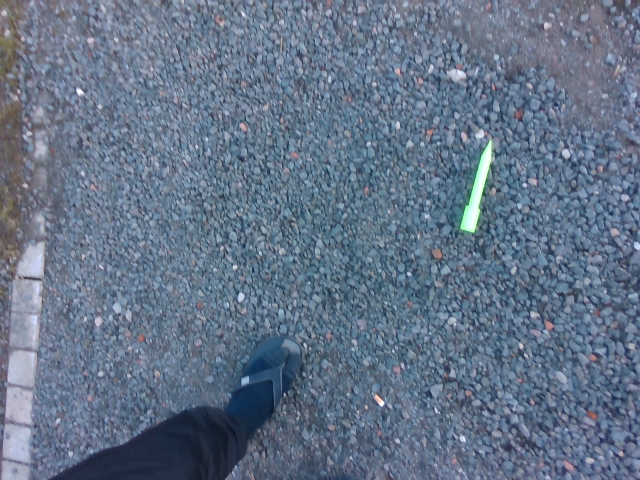Probe: (459, 135, 499, 235)
